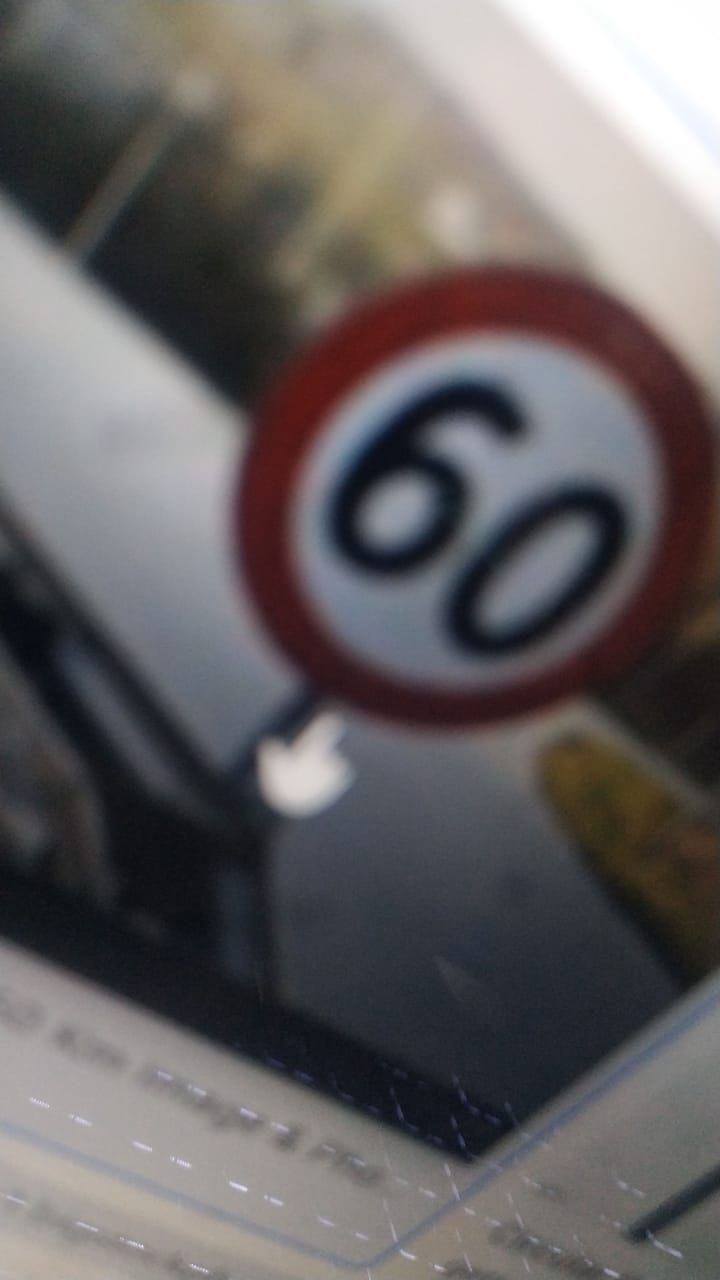SPEED LIMIT (60 KM/H): (222, 267, 717, 734)
